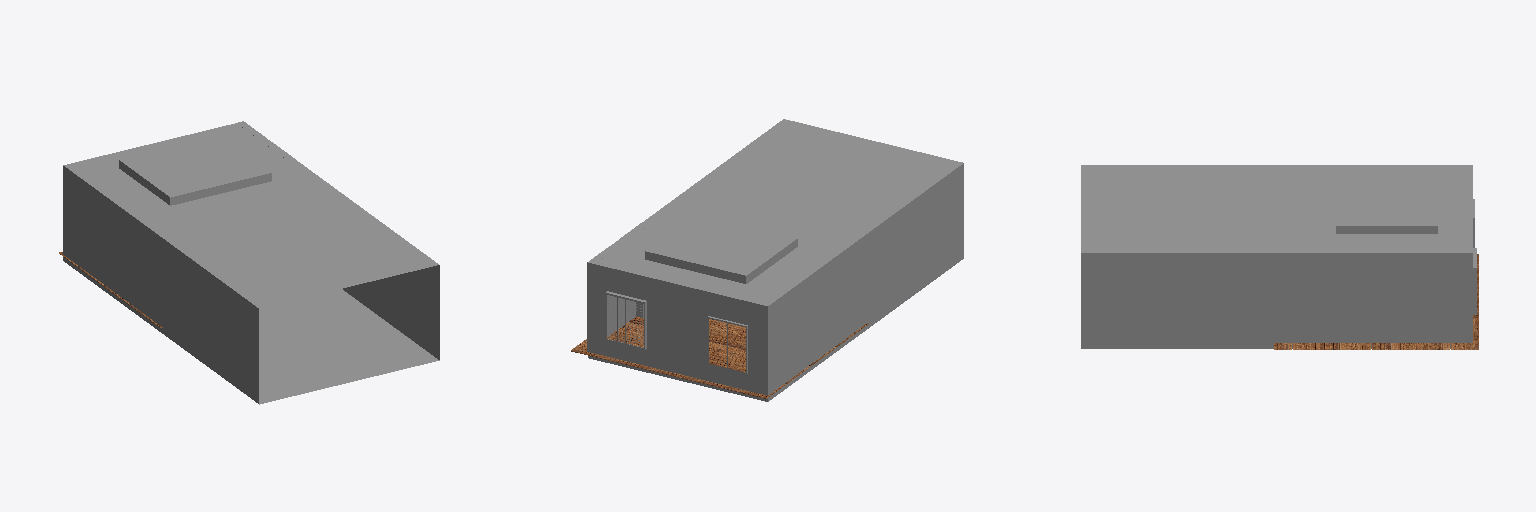
3 renders of one model, left to right at view 1: azimuth 30°, elevation 25°; view 2: azimuth 150°, elevation 25°; view 3: azimuth 270°, elevation 25°, orthographic.
Visible parts, largest first — view 1: Cube.011_Cube.019; view 2: Cube.011_Cube.019, FloorBoard_Cube.018, Cube.012_Cube.020; view 3: Cube.011_Cube.019, Cube.012_Cube.020, FloorBoard_Cube.018.
Part boxes in pixels (x1,y1,x2,y2): Cube.011_Cube.019: (63, 123, 439, 404); Cube.011_Cube.019: (588, 119, 963, 401); FloorBoard_Cube.018: (571, 317, 868, 398); Cube.012_Cube.020: (587, 223, 647, 353); Cube.011_Cube.019: (1081, 165, 1476, 348); Cube.012_Cube.020: (1365, 250, 1472, 342); FloorBoard_Cube.018: (1274, 254, 1478, 349).
Bounding box in the file's own units: 19.57 × 9.93 × 34.48.
Materials: 14 (1 with a texture image).